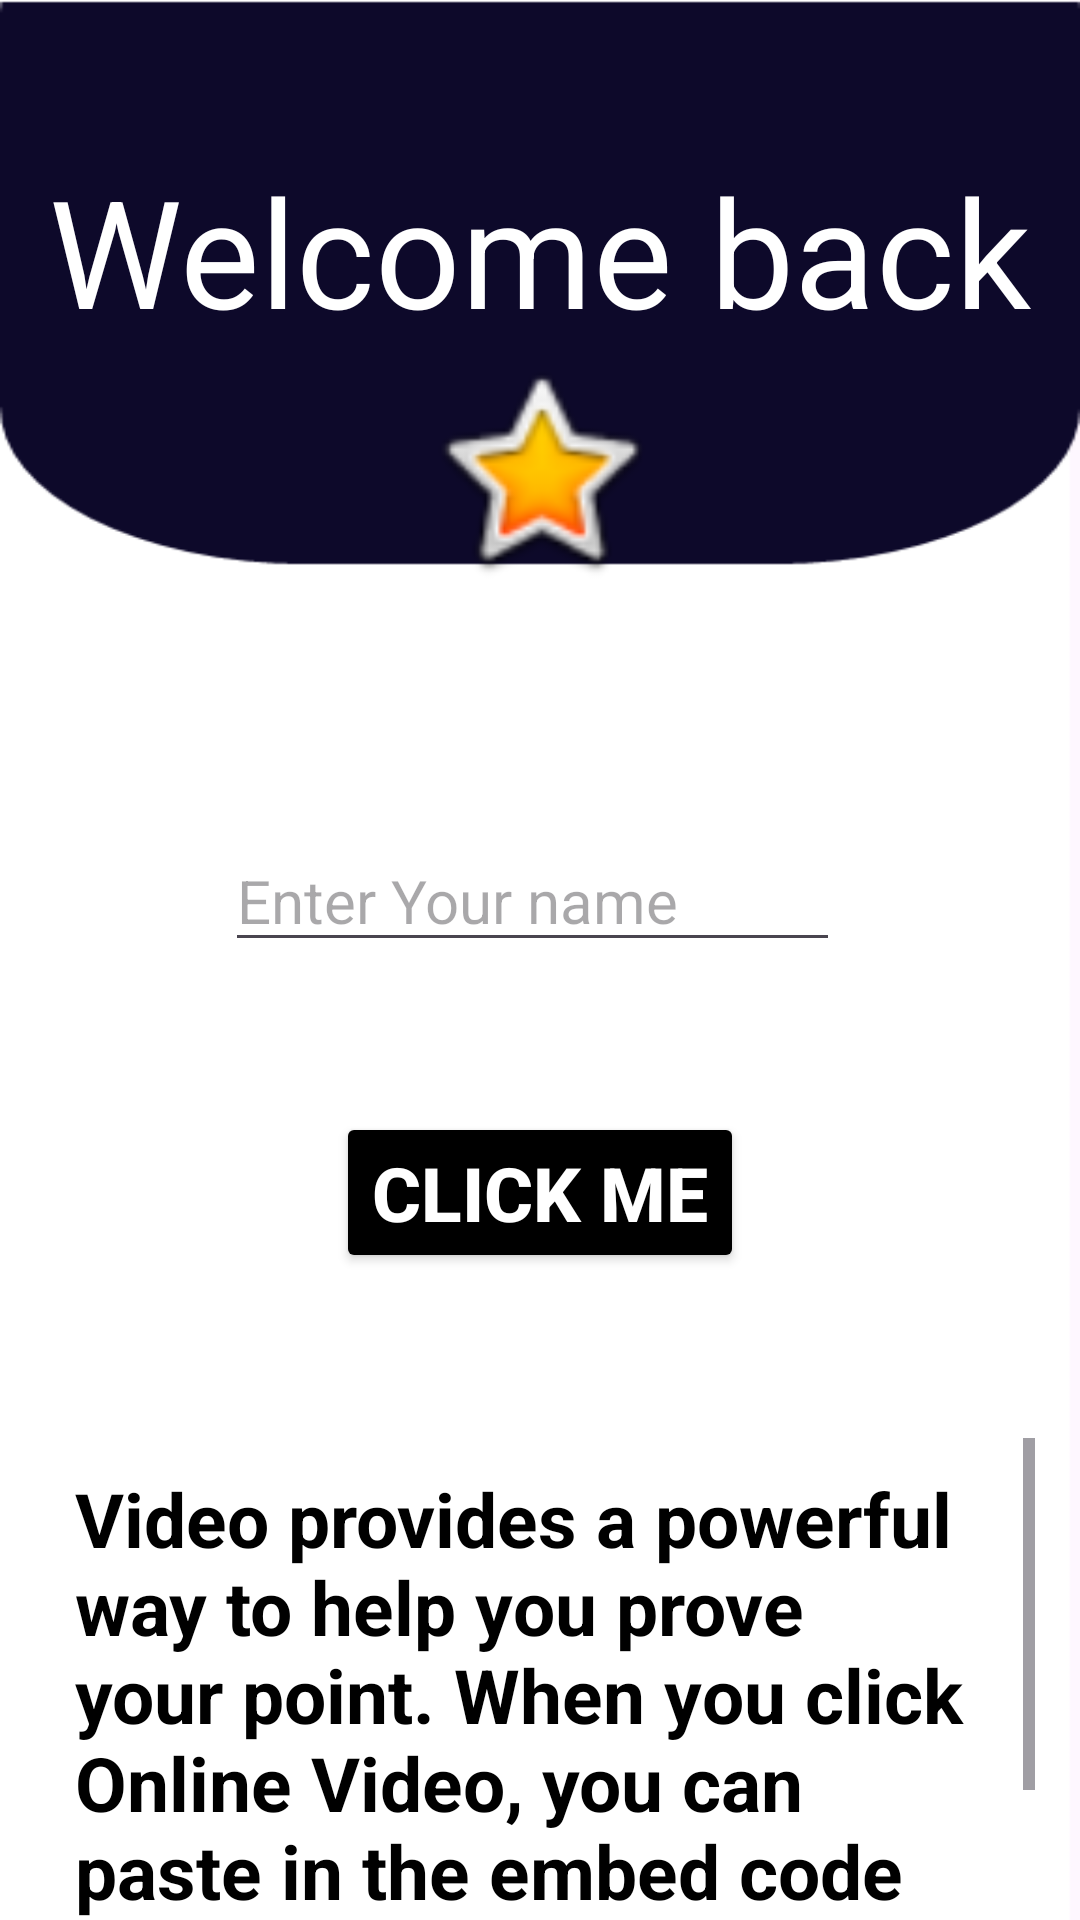

Icons on this 1080x1920 Android screen, each with the point to tap as point (x, y):
star on: point (542, 469)
